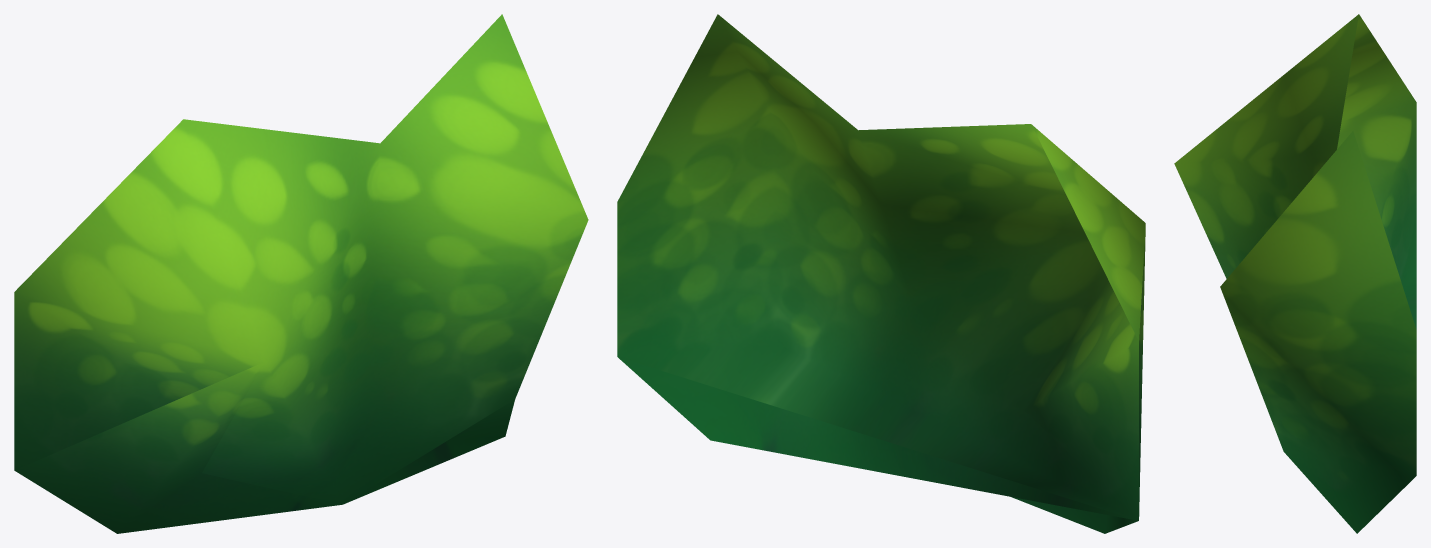
The model's file is Underbrush_01.FBX.
The picture shows the model from 3 angles, left to right: view 1: azimuth 30°, elevation 25°; view 2: azimuth 150°, elevation 25°; view 3: azimuth 270°, elevation 25°; orthographic projection. The views are drawn at different scales.
Parts seen in each view (by area): view 1: Underbrush_01; view 2: Underbrush_01; view 3: Underbrush_01.
Boxes of the visible parts, <box> form: Underbrush_01: <box>14,14,588,533</box>; Underbrush_01: <box>617,14,1145,533</box>; Underbrush_01: <box>1174,14,1416,533</box>.
Size of the model in its own units: 0.8848 by 0.6905 by 0.3784.
